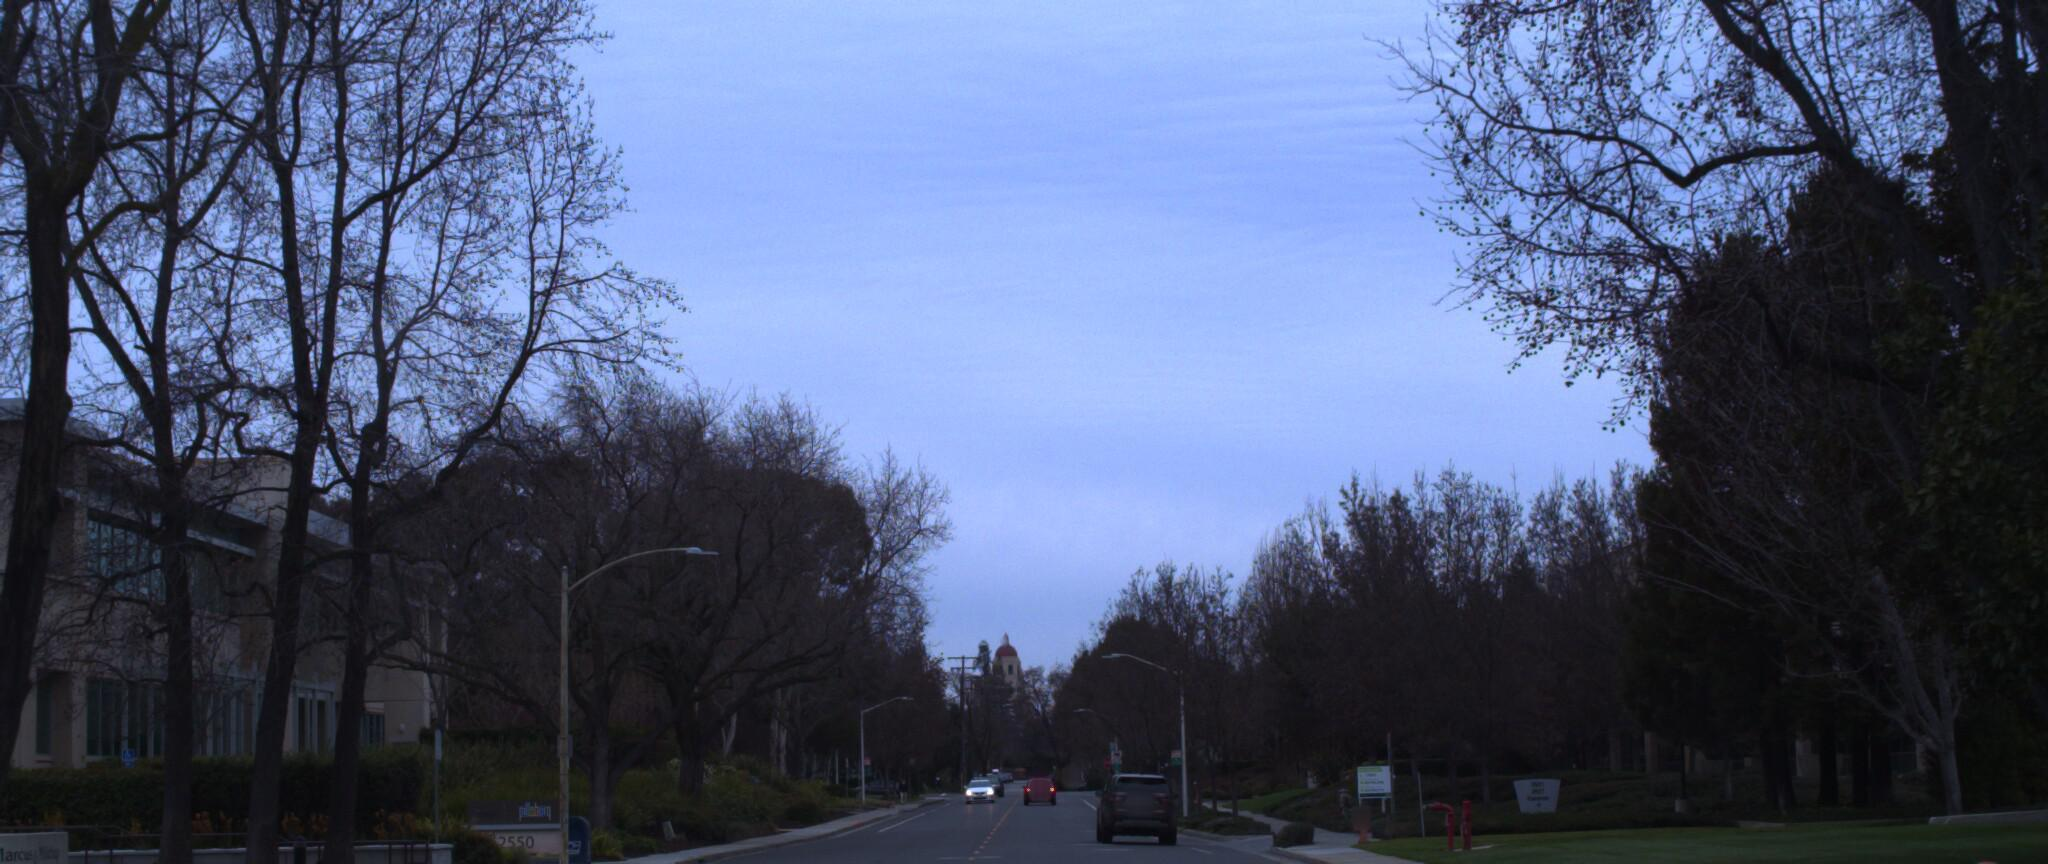car: (1095, 770, 1178, 847)
